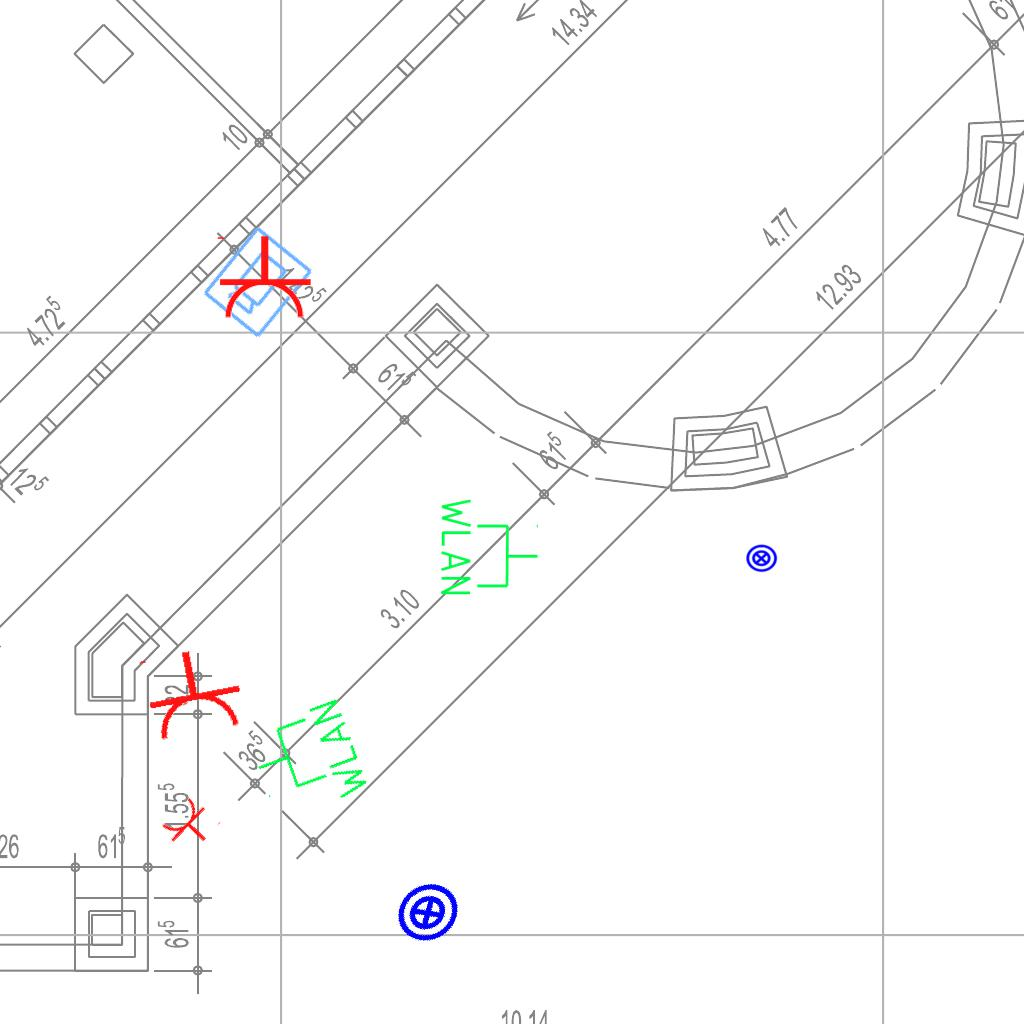KFO_Kamera_mit_Festobjektiv: (198, 221, 317, 342)
Schukosteckdose_einfach: (134, 640, 249, 746), (213, 234, 313, 321), (157, 792, 224, 858)
Taster_beleuchtet: (382, 867, 474, 959), (745, 542, 778, 575)
WLAN: (241, 693, 375, 828), (437, 494, 541, 599)
